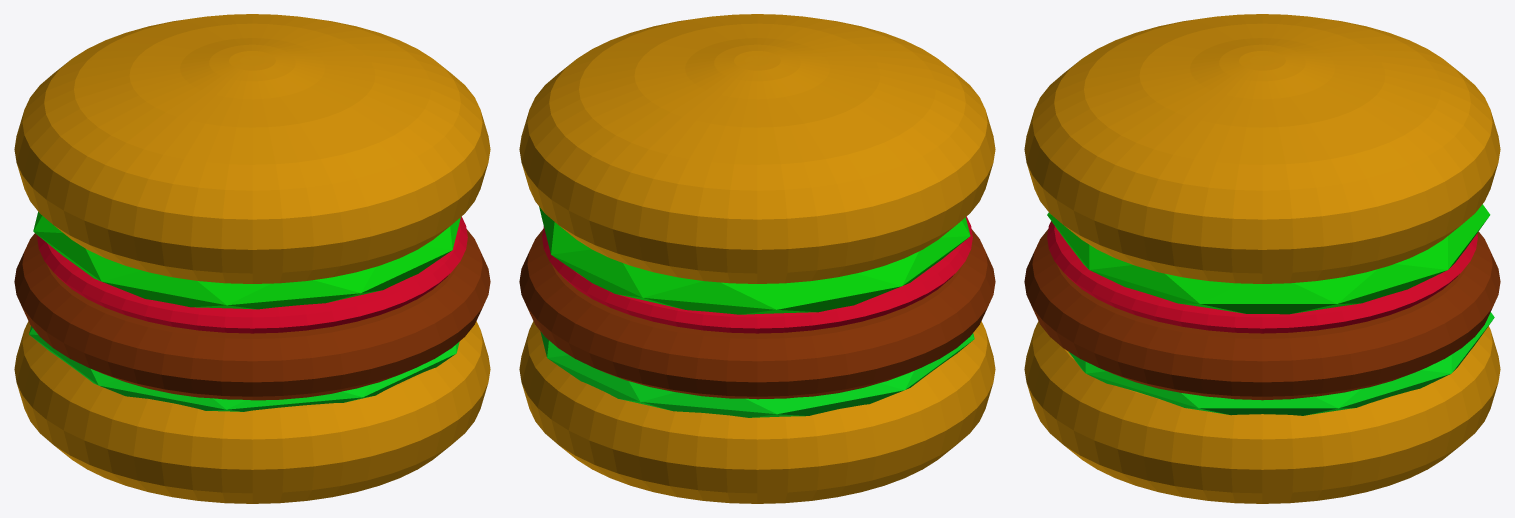
The model's file is burger.fbx.
The picture shows the model from 3 angles, left to right: view 1: azimuth 30°, elevation 25°; view 2: azimuth 150°, elevation 25°; view 3: azimuth 270°, elevation 25°; orthographic projection.
Parts seen in each view (by area): view 1: Torus.002, Torus, Torus.001, Torus.003, Icosphere, Icosphere.001; view 2: Torus.002, Torus, Torus.001, Icosphere, Torus.003, Icosphere.001; view 3: Torus.002, Torus, Torus.001, Icosphere, Torus.003, Icosphere.001.
Part boxes in pixels (x1,y1,x2,y2): Torus.002: [14, 14, 490, 283]; Torus: [14, 321, 490, 503]; Torus.001: [14, 229, 490, 400]; Torus.003: [37, 216, 467, 333]; Icosphere: [33, 211, 460, 309]; Icosphere.001: [29, 326, 459, 411]; Torus.002: [519, 14, 995, 283]; Torus: [519, 321, 995, 503]; Torus.001: [519, 229, 995, 399]; Icosphere: [539, 206, 970, 314]; Torus.003: [542, 216, 972, 333]; Icosphere.001: [540, 331, 974, 417]; Torus.002: [1024, 14, 1500, 283]; Torus: [1024, 321, 1500, 503]; Torus.001: [1024, 229, 1500, 400]; Icosphere: [1047, 204, 1490, 314]; Torus.003: [1047, 221, 1477, 333]; Icosphere.001: [1068, 312, 1494, 415].
Size of the model in its own units: 268 by 225 by 268.
